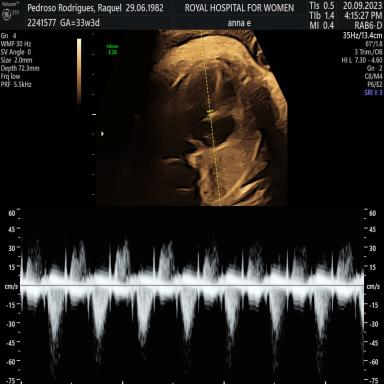Ultrasound-Waves: (27, 217, 362, 384)
